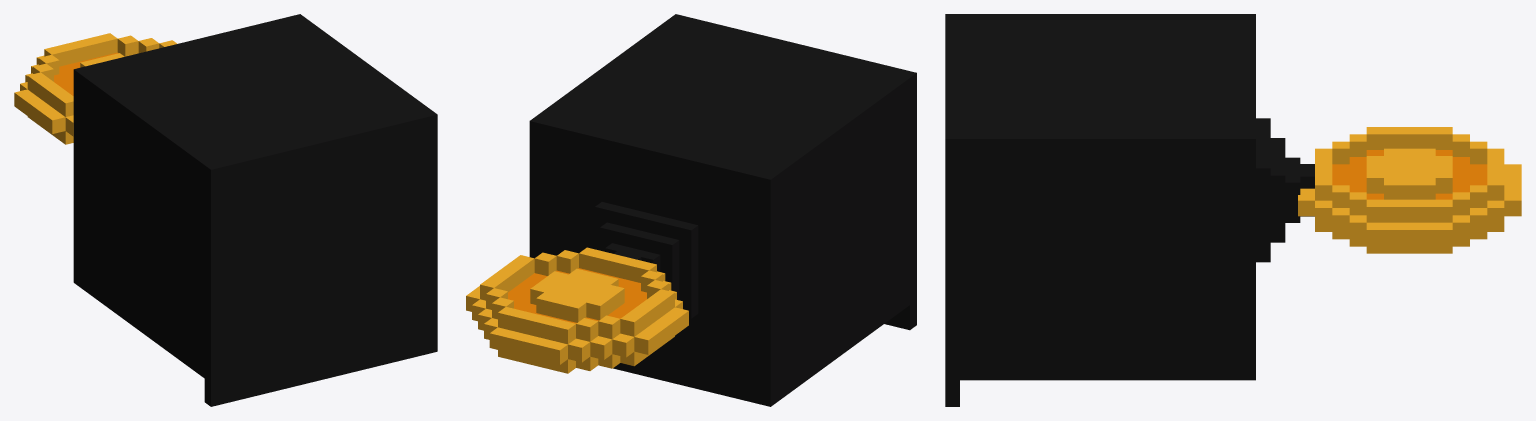
The model's file is Shop.fbx.
The picture shows the model from 3 angles, left to right: view 1: azimuth 30°, elevation 25°; view 2: azimuth 150°, elevation 25°; view 3: azimuth 270°, elevation 25°; orthographic projection. The views are drawn at different scales.
Visible parts, largest first — view 1: Untitled.001; view 2: Untitled.001; view 3: Untitled.001.
Boxes of the visible parts, x1,y1,x2,y2 form: Untitled.001: [14, 14, 437, 406]; Untitled.001: [466, 14, 916, 406]; Untitled.001: [945, 14, 1521, 406].
Bounding box in the file's own units: 241 × 241 × 469.
